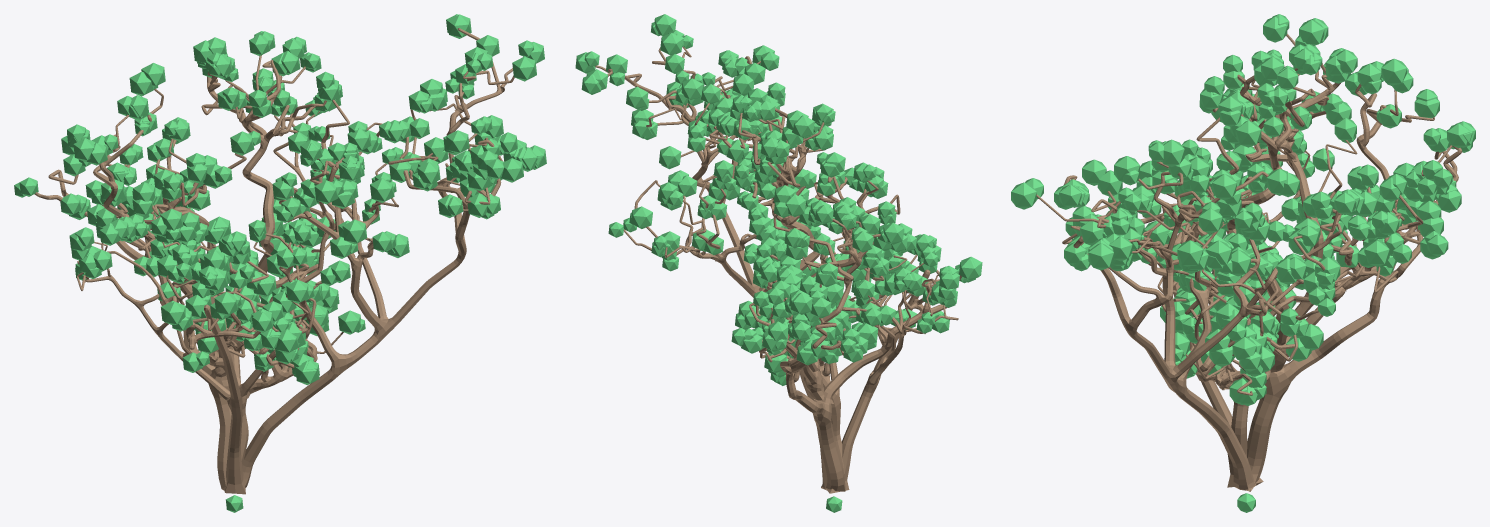
3 renders of one model, left to right at view 1: azimuth 30°, elevation 25°; view 2: azimuth 150°, elevation 25°; view 3: azimuth 270°, elevation 25°, orthographic. The views are drawn at different scales.
Parts seen in each view (by area): view 1: Arbusto; view 2: Arbusto; view 3: Arbusto, Icosphere.065, Icosphere.127, Icosphere.409, Icosphere.140, Icosphere.489, Icosphere.597, Icosphere.149.
Part boxes in pixels (x1,y1,x2,y2): Arbusto: (34, 28, 514, 494); Arbusto: (595, 46, 961, 493); Arbusto: (1036, 34, 1462, 491); Icosphere.065: (1011, 182, 1036, 209); Icosphere.127: (1177, 240, 1203, 266); Icosphere.409: (1381, 58, 1406, 85); Icosphere.140: (1088, 243, 1113, 270); Icosphere.489: (1235, 120, 1261, 147); Icosphere.597: (1364, 240, 1389, 266); Icosphere.149: (1212, 174, 1236, 200).
Size of the model in its own units: 2.05 by 2 by 1.69.
